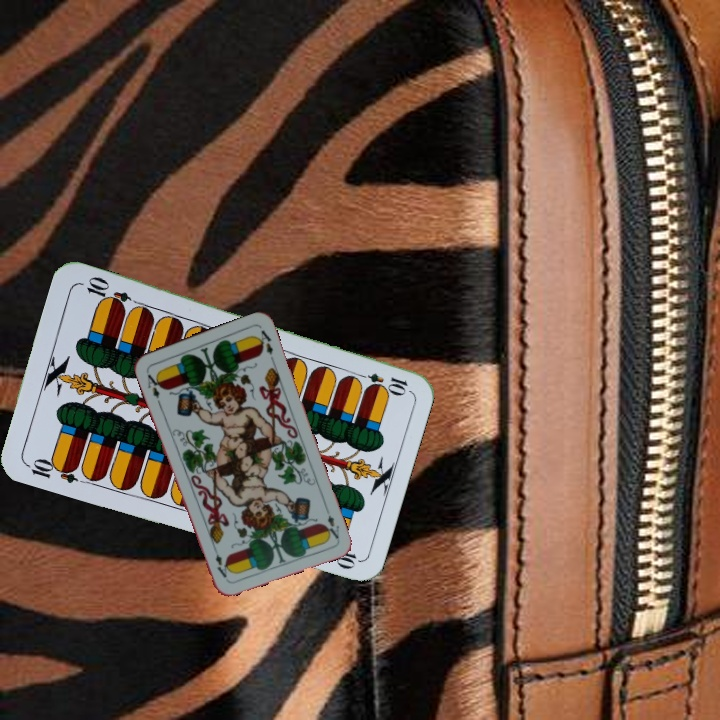E10: (22, 454, 81, 486), (351, 368, 410, 395)
EA: (321, 503, 342, 541), (142, 366, 164, 401)
